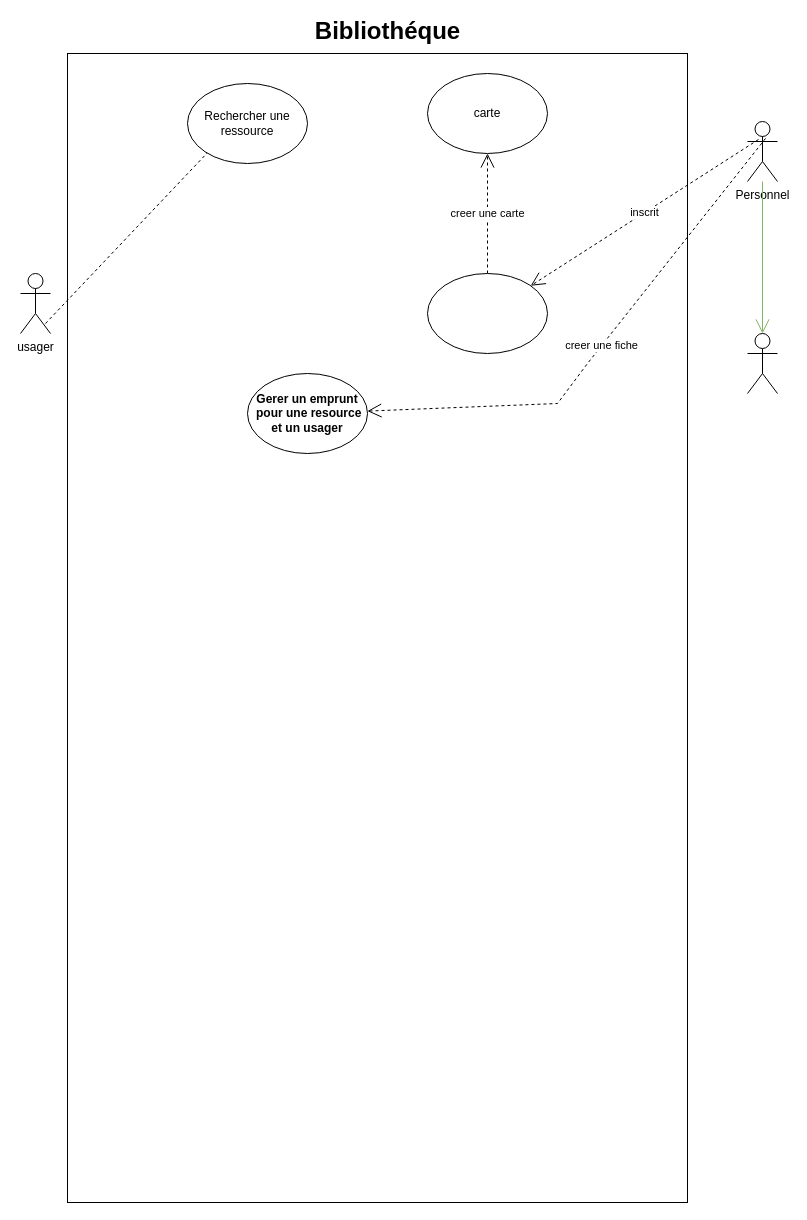
Image size: 807x1220. Some labels were removed from this diagram. The shapes that lost their labels are listed below. From the top down, each one's centre as x and y in pixels, then its label:
At (x=487, y=313): "inscription".
At (x=762, y=363): "bénévole".
